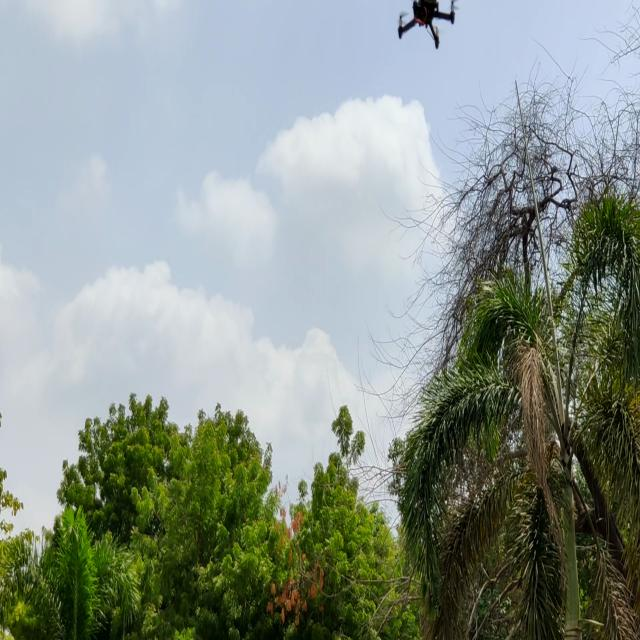drone: (399, 0, 458, 61)
